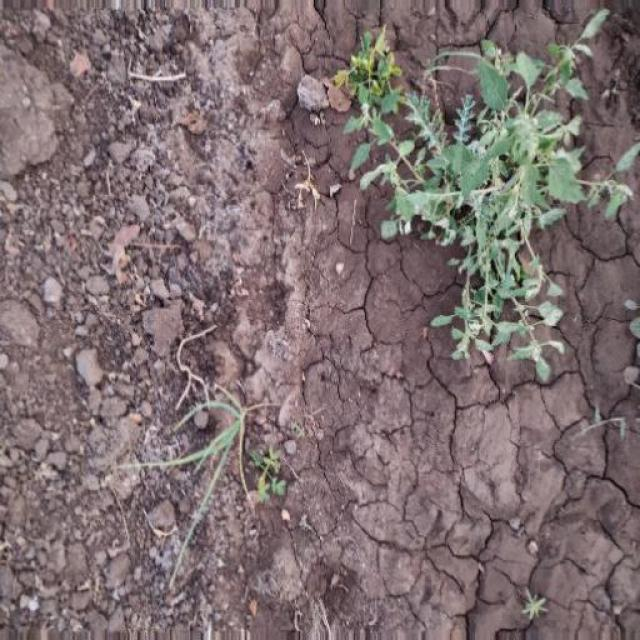crop: (354, 30, 624, 386)
